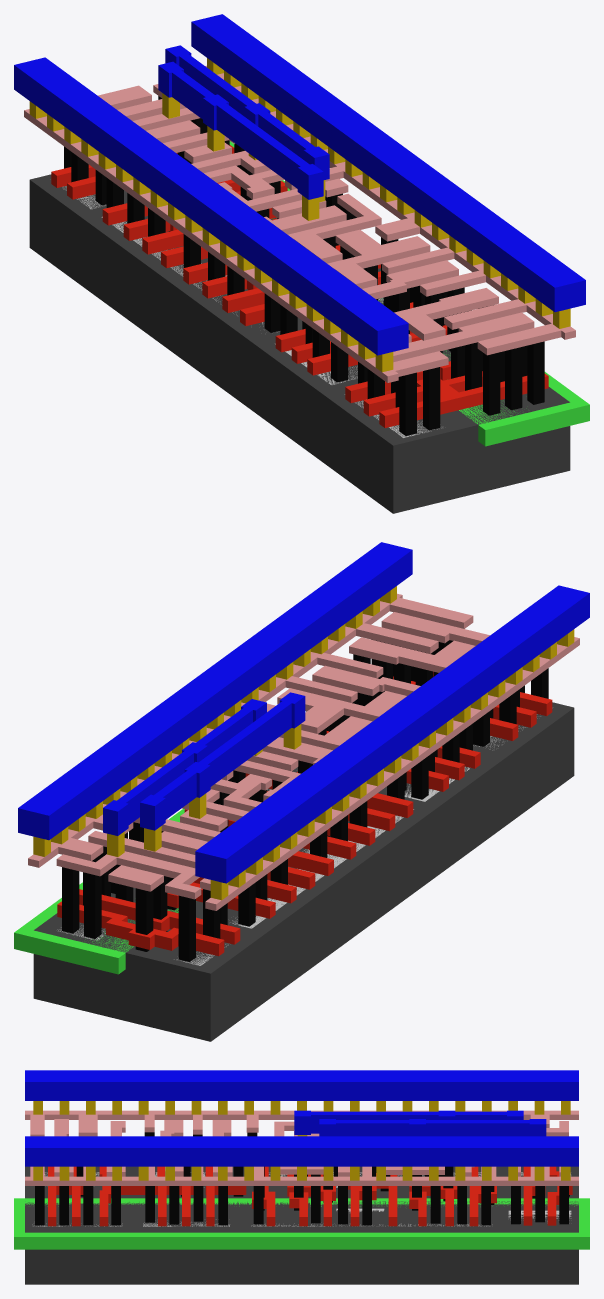
Rendered from sky130_fd_sc_hd__dfxbp_2.obj.
The picture shows the model from 3 angles, top to bottom: view 1: azimuth 30°, elevation 25°; view 2: azimuth 150°, elevation 25°; view 3: azimuth 270°, elevation 25°; orthographic projection. The views are drawn at different scales.
Parts seen in each view (by area): view 1: metal1, subs, li, licon, poly, mcon, nwell, diff; view 2: metal1, subs, li, licon, poly, mcon, nwell, diff; view 3: metal1, subs, li, nwell, poly, licon, mcon, tap.
Part boxes in pixels (box(x1,y1,x2,y2)): metal1: box(14, 14, 585, 355); subs: box(29, 174, 570, 513); li: box(24, 65, 575, 382); licon: box(64, 96, 544, 435); poly: box(51, 145, 548, 427); mcon: box(29, 58, 570, 372); nwell: box(229, 141, 589, 446); diff: box(62, 186, 442, 437); metal1: box(18, 542, 589, 883); subs: box(33, 702, 574, 1041); li: box(28, 593, 579, 910); licon: box(62, 640, 548, 961); poly: box(57, 672, 552, 956); mcon: box(33, 586, 574, 900); nwell: box(14, 808, 184, 974); diff: box(174, 714, 540, 965); metal1: box(25, 1070, 578, 1166); subs: box(25, 1166, 578, 1284); li: box(25, 1110, 578, 1185); nwell: box(14, 1198, 589, 1249); poly: box(48, 1166, 572, 1226); licon: box(35, 1132, 569, 1225); mcon: box(33, 1101, 570, 1180); tap: box(32, 1208, 571, 1226).
Bounding box in the file's own units: 3.2 × 2.74 × 10.04.
